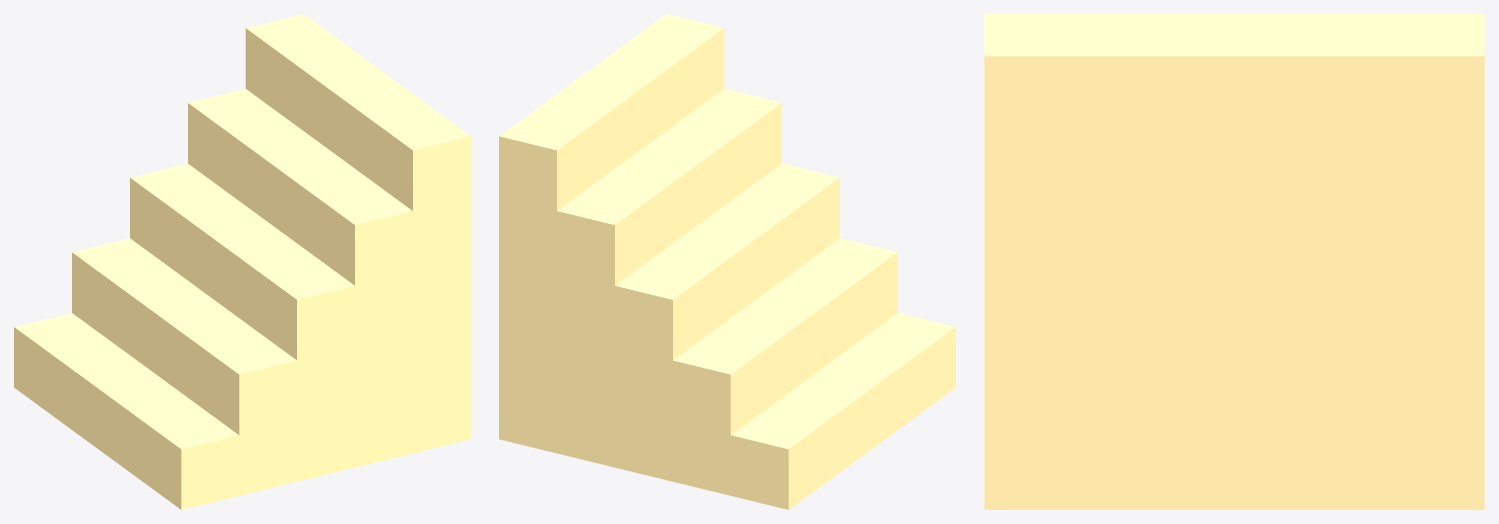
Rendered from steps_medium.glb.
3 renders of one model, left to right at view 1: azimuth 30°, elevation 25°; view 2: azimuth 150°, elevation 25°; view 3: azimuth 270°, elevation 25°, orthographic. The views are drawn at different scales.
Visible parts, largest first — view 1: StepsMedium_Step4-convcol, StepsMedium_Step3-convcol, StepsMedium_Step2-convcol, StepsMedium_Step1-convcol, StepsMedium_Step0-convcol; view 2: StepsMedium_Step4-convcol, StepsMedium_Step3-convcol, StepsMedium_Step2-convcol, StepsMedium_Step1-convcol, StepsMedium_Step0-convcol; view 3: StepsMedium_Step4-convcol.
Boxes of the visible parts, x1,y1,x2,y2 form: StepsMedium_Step4-convcol: (245,14,470,453); StepsMedium_Step3-convcol: (188,88,412,467); StepsMedium_Step2-convcol: (130,163,354,481); StepsMedium_Step1-convcol: (72,238,296,495); StepsMedium_Step0-convcol: (14,313,239,509); StepsMedium_Step4-convcol: (499,14,724,453); StepsMedium_Step3-convcol: (557,88,781,467); StepsMedium_Step2-convcol: (615,163,839,481); StepsMedium_Step1-convcol: (673,238,897,495); StepsMedium_Step0-convcol: (730,313,955,509); StepsMedium_Step4-convcol: (984,14,1484,509).
Size of the model in its own units: 6.75 by 6.75 by 6.75.
